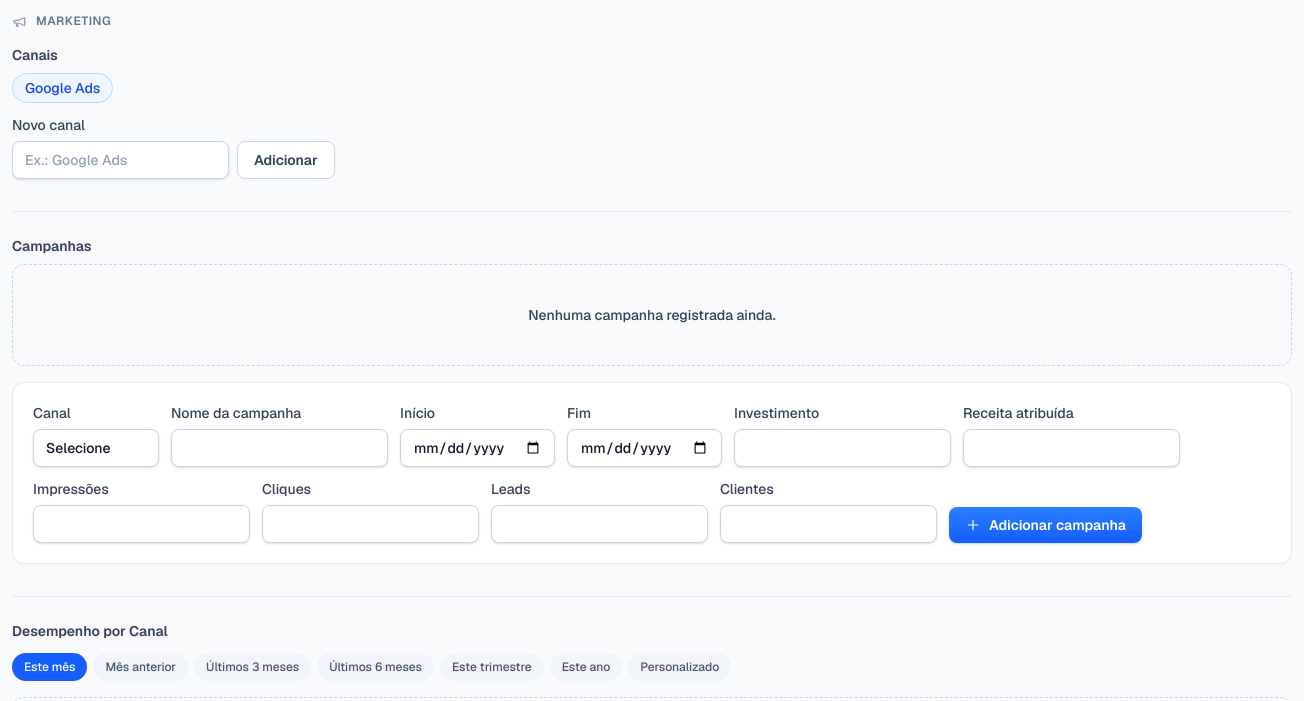
Test: MarketingPage — Desempenho por Canal (PR4) › atualiza o desempenho por canal ao criar uma campanha, sem esperar troca de filtro
The image size is (1304, 701).
Select "Google Ads" in the dropdown labelled "Canal": (96, 448) [33,429,159,467]
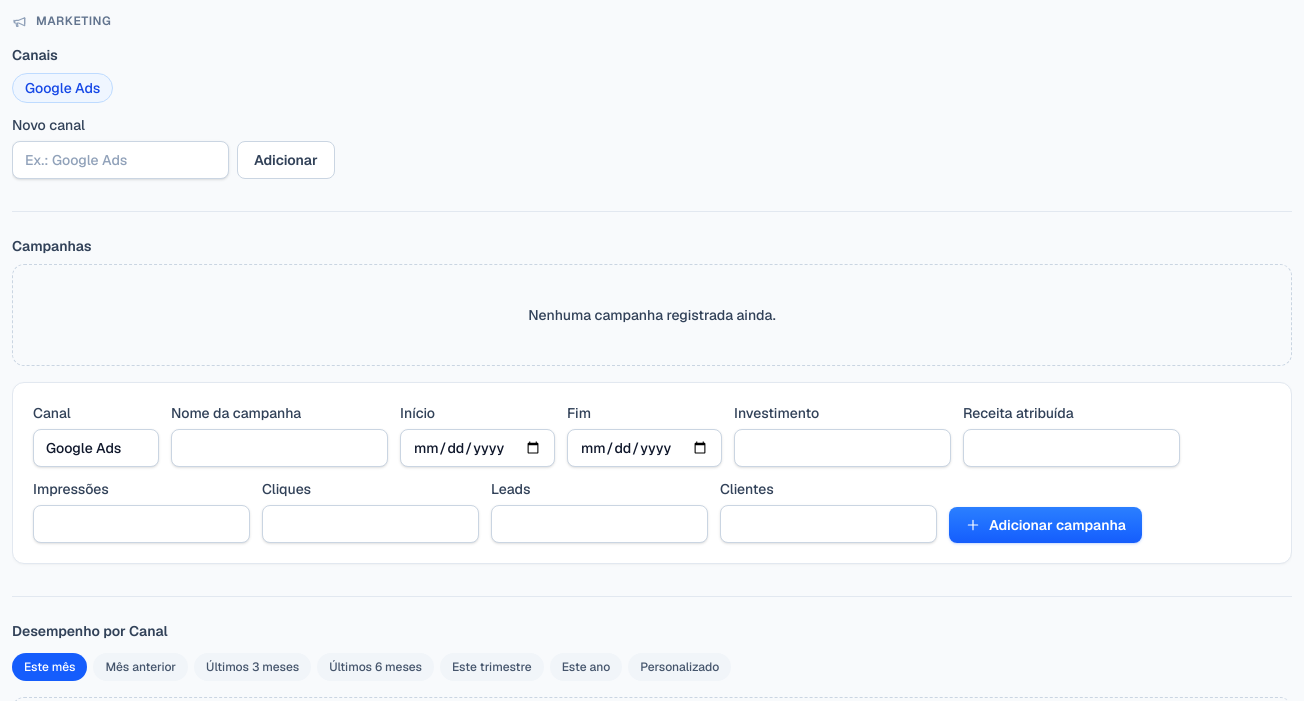
In the field labelled "Nome da campanha": (280, 448) [171,429,388,467], type "Campanha Google Setembro"
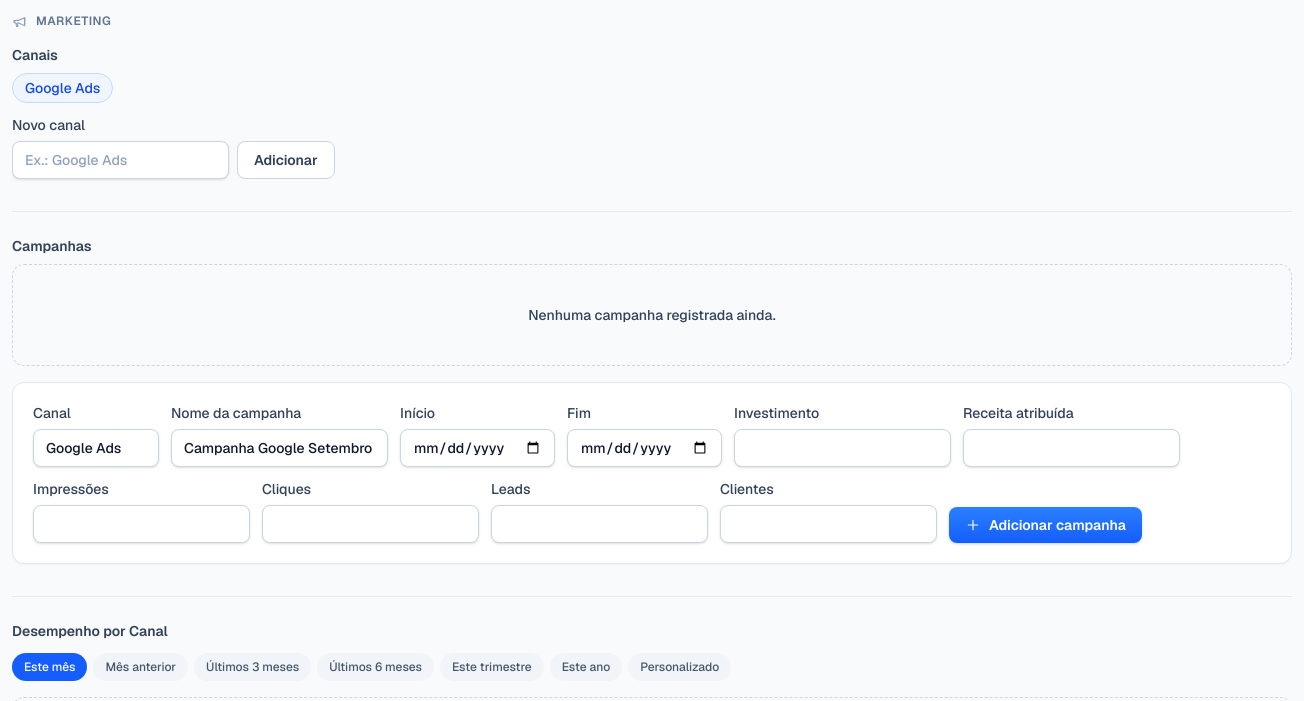
Click the button "Adicionar campanha": (1045, 525) [949,507,1142,543]
(page scrolled)
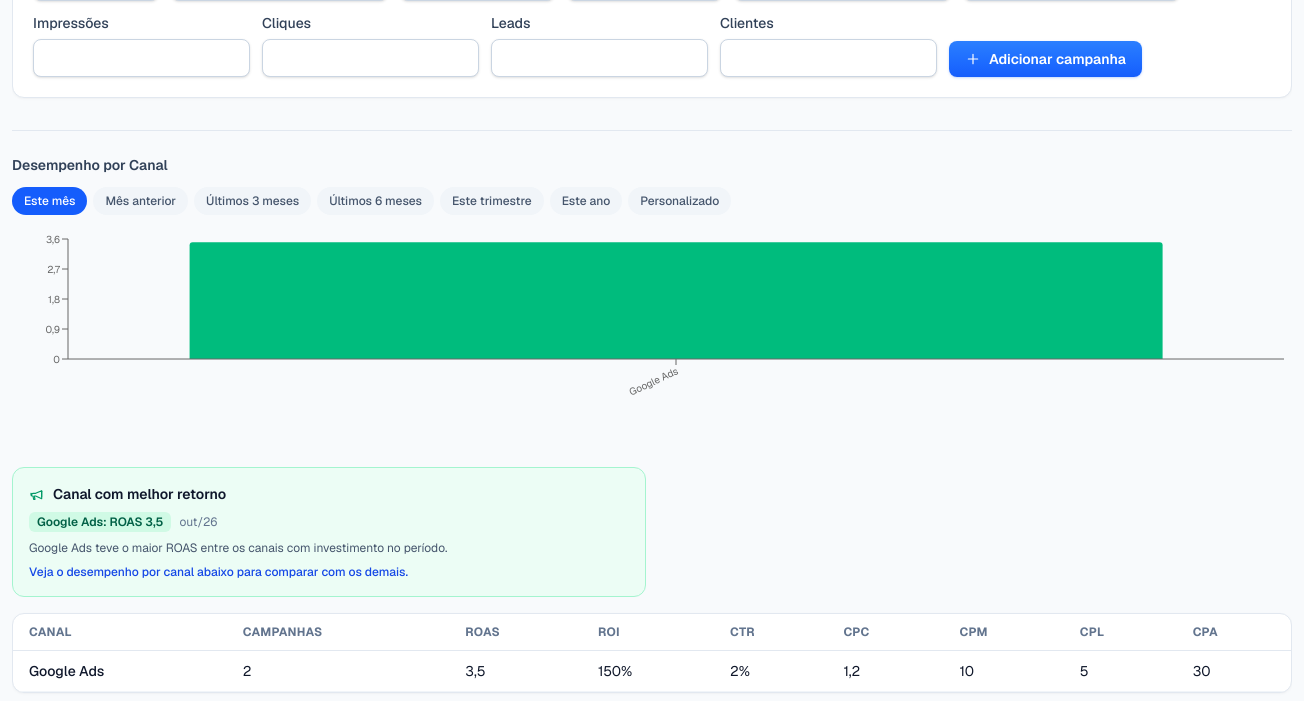
Check: the picture named "ROAS por Canal" is shown, box [12,231,1292,451]
